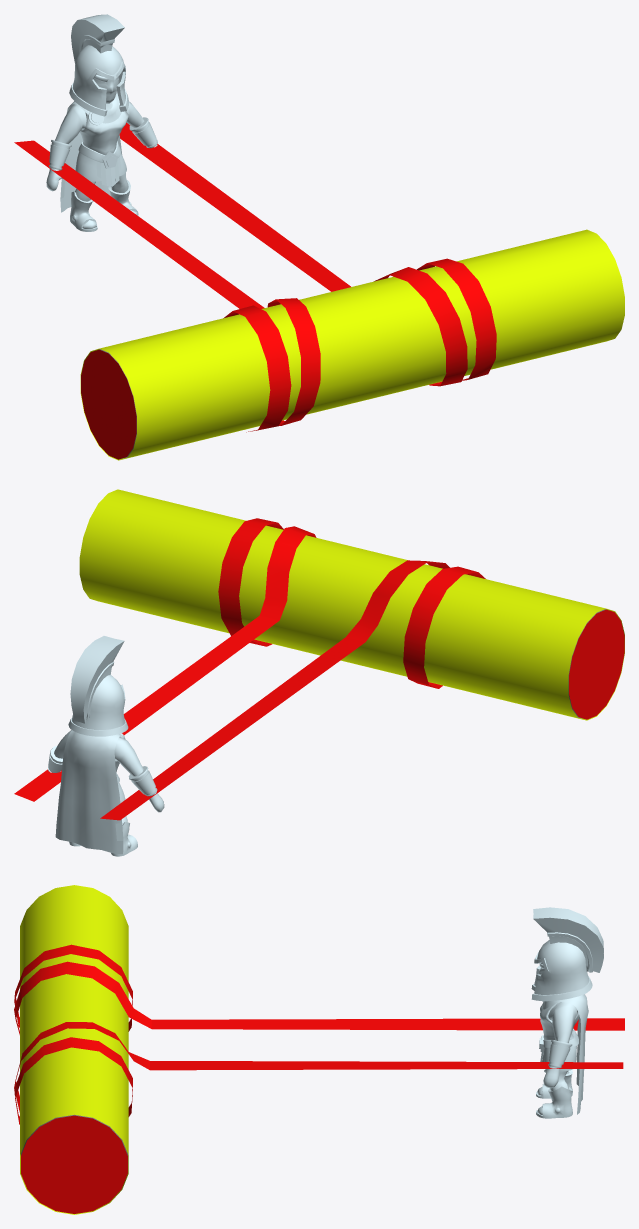
The model's file is sparta_pers_weapon_01.fbx.
3 views of the same model, one above another, from view 1: azimuth 30°, elevation 25°; view 2: azimuth 150°, elevation 25°; view 3: azimuth 270°, elevation 25° (orthographic). The views are drawn at different scales.
Parts seen in each view (by area): view 1: Object220, belt_low, Object218, Object221, Object219; view 2: Object220, belt_low, Object218, Object221, Object219; view 3: Object220, belt_low, Object221, Object219, Object218.
Boxes of the visible parts, bbox=[...] form: Object220: bbox=[80, 229, 624, 460]; belt_low: bbox=[46, 14, 157, 231]; Object218: bbox=[223, 258, 496, 432]; Object221: bbox=[14, 122, 350, 308]; Object219: bbox=[81, 349, 136, 459]; Object220: bbox=[79, 489, 624, 720]; belt_low: bbox=[48, 636, 164, 856]; Object218: bbox=[218, 518, 485, 688]; Object221: bbox=[14, 615, 365, 820]; Object219: bbox=[568, 609, 624, 719]; Object220: bbox=[20, 885, 128, 1214]; belt_low: bbox=[531, 907, 603, 1118]; Object221: bbox=[150, 1018, 624, 1070]; Object219: bbox=[21, 1114, 127, 1213]; Object218: bbox=[14, 944, 151, 1124].
Size of the model in its own units: 314 by 353 by 123.
